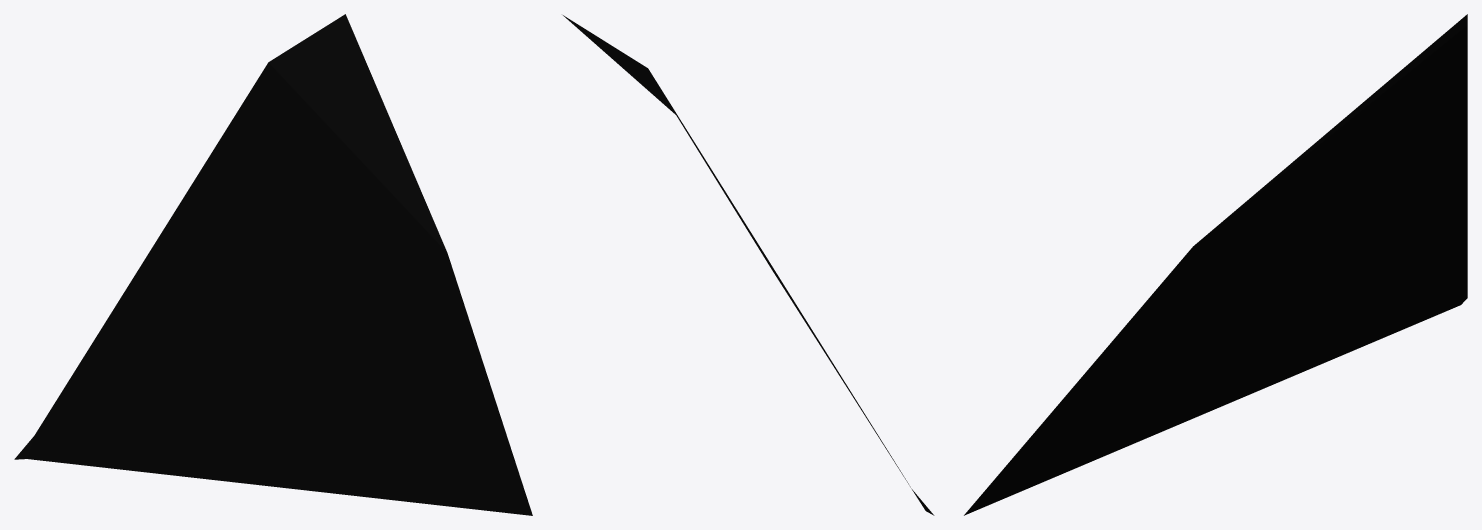
3 views of the same model, side by side, from view 1: azimuth 30°, elevation 25°; view 2: azimuth 150°, elevation 25°; view 3: azimuth 270°, elevation 25° (orthographic). The views are drawn at different scales.
Bounding box in the file's own units: 0.2458 × 0.2584 × 0.2405.
Materials: 1 (1 with a texture image).
